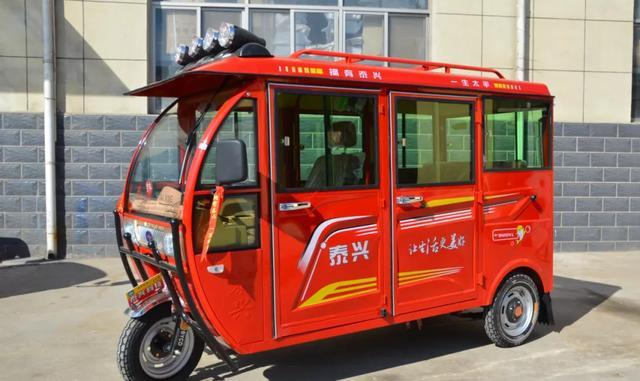empty: (78, 41, 554, 378)
